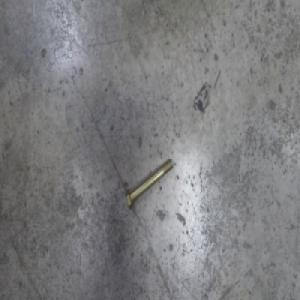Bolt: (124, 156, 174, 213)
